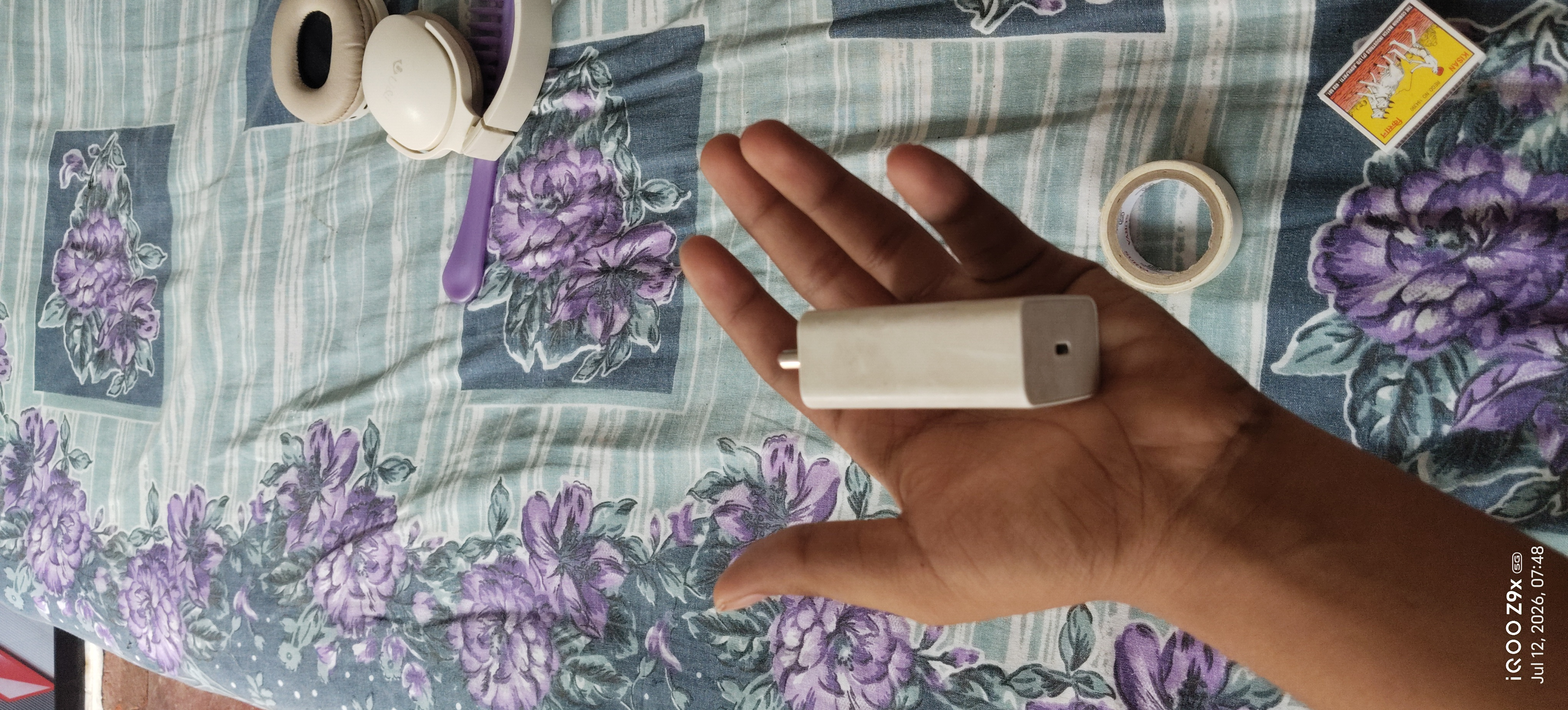charger: (718, 256, 1116, 452)
matchbox: (1298, 0, 1509, 173)
tape_roll: (1075, 144, 1253, 305)
